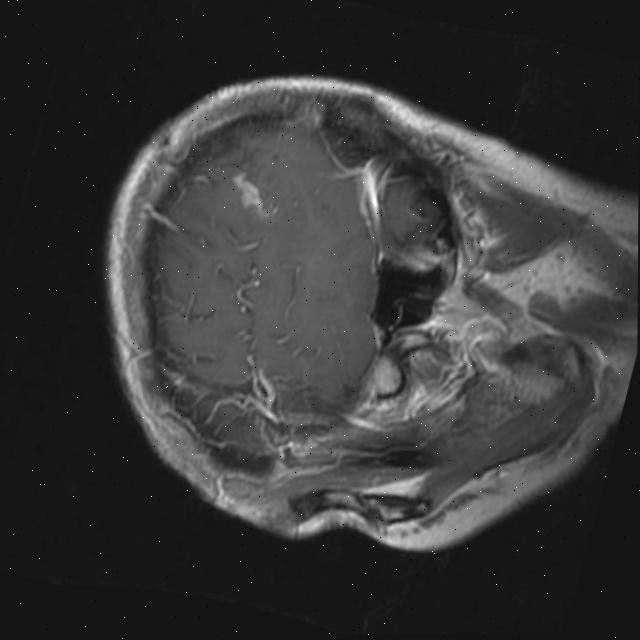Glioma: (221, 167, 285, 221)
